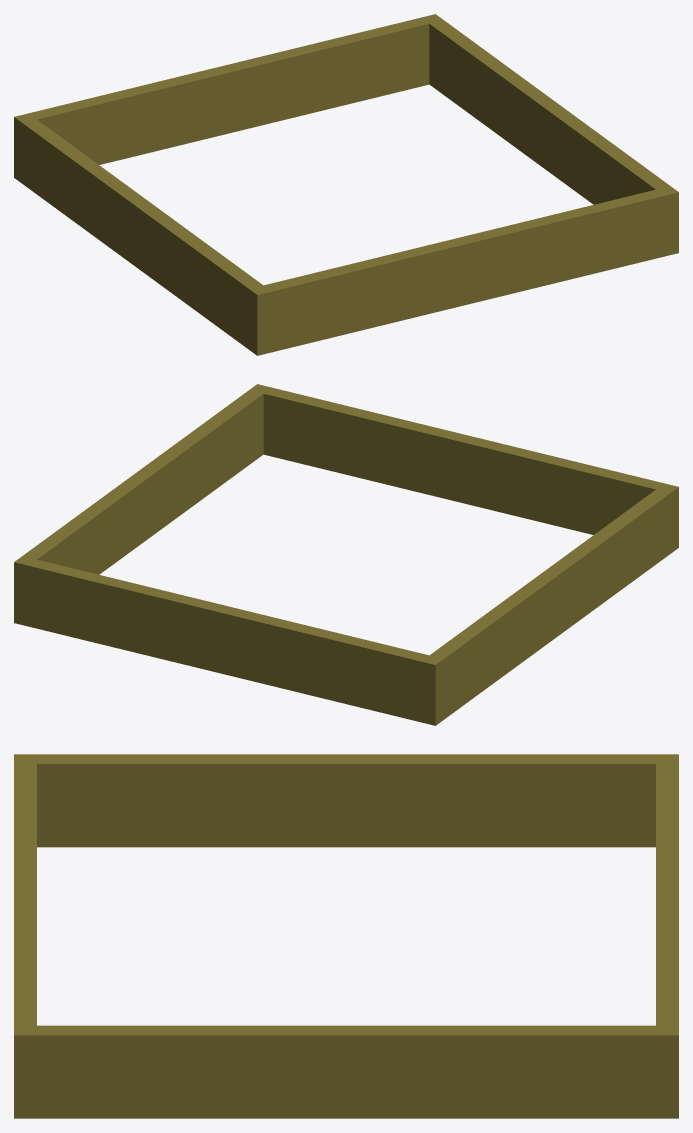
The model's file is wall.fbx.
3 views of the same model, one above another, from view 1: azimuth 30°, elevation 25°; view 2: azimuth 150°, elevation 25°; view 3: azimuth 270°, elevation 25° (orthographic). The views are drawn at different scales.
Visible parts, largest first — view 1: Cube.002, Cube.001, Cube.004, Cube.003; view 2: Cube.001, Cube.002, Cube.004, Cube.003; view 3: Cube.003, Cube.004, Cube.001, Cube.002.
Boxes of the visible parts, <box> form: Cube.002: <box>264,189,671,353</box>; Cube.001: <box>21,16,436,164</box>; Cube.004: <box>14,115,271,355</box>; Cube.003: <box>428,14,678,255</box>; Cube.001: <box>21,558,436,723</box>; Cube.002: <box>263,387,663,534</box>; Cube.004: <box>421,483,678,725</box>; Cube.003: <box>14,384,271,626</box>; Cube.003: <box>14,1025,678,1118</box>; Cube.004: <box>14,754,678,847</box>; Cube.001: <box>656,759,678,1030</box>; Cube.002: <box>14,764,36,1025</box>.
Bounding box in the file's own units: 2900 × 400 × 2900.
